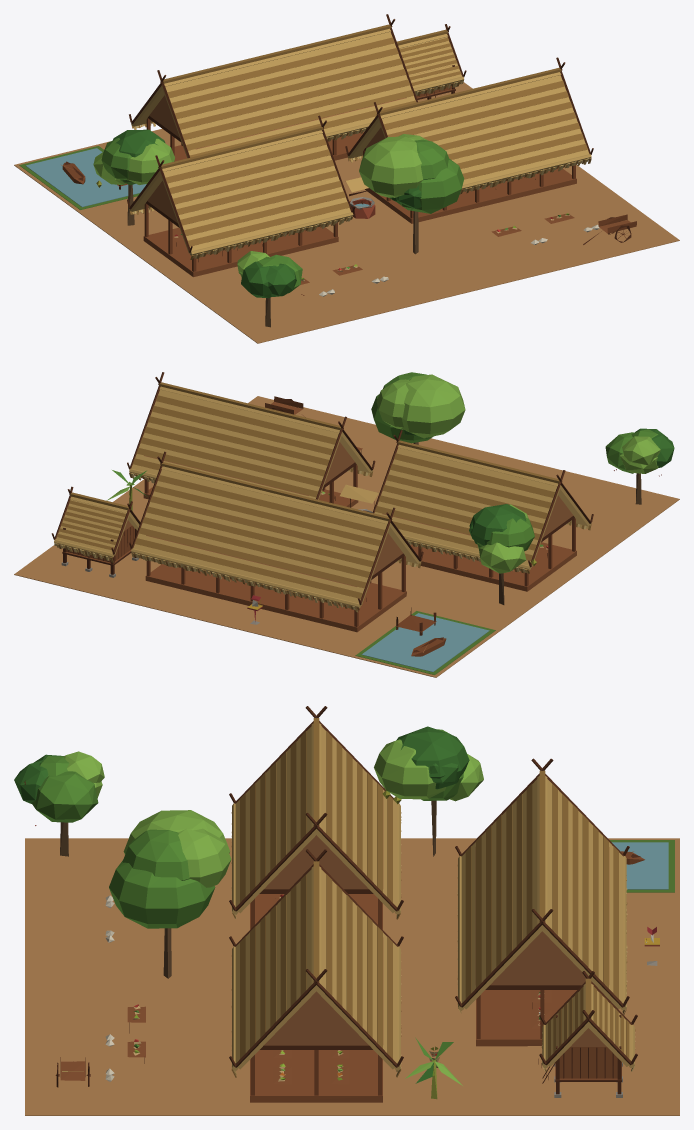
File: shop_5.glb
3 views of the same model, one above another, from view 1: azimuth 30°, elevation 25°; view 2: azimuth 150°, elevation 25°; view 3: azimuth 270°, elevation 25° (orthographic). The views are drawn at different scales.
Parts seen in each view (by area): view 1: body; view 2: body; view 3: body.
Boxes of the visible parts, x1=… form: body: x1=14, y1=14, x2=679, y2=343; body: x1=14, y1=372, x2=679, y2=677; body: x1=14, y1=706, x2=679, y2=1115.
Bounding box in the file's own units: 32.54 × 8.51 × 32.43.
